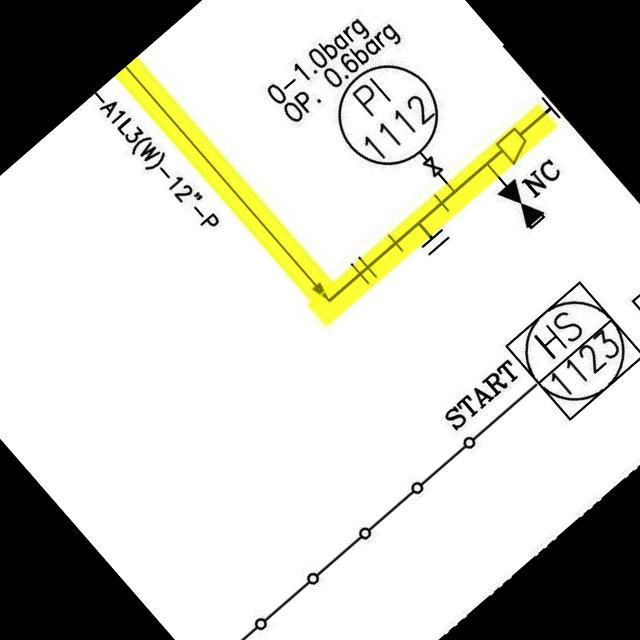SP: (486, 116, 542, 170)
